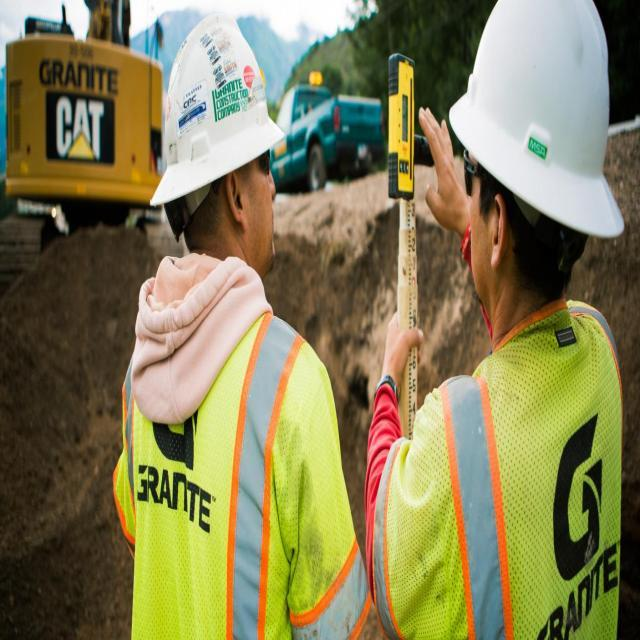reflective_jacket: (112, 259, 366, 639), (367, 302, 625, 639)
safety_helmet: (447, 4, 628, 246), (145, 8, 285, 216)
